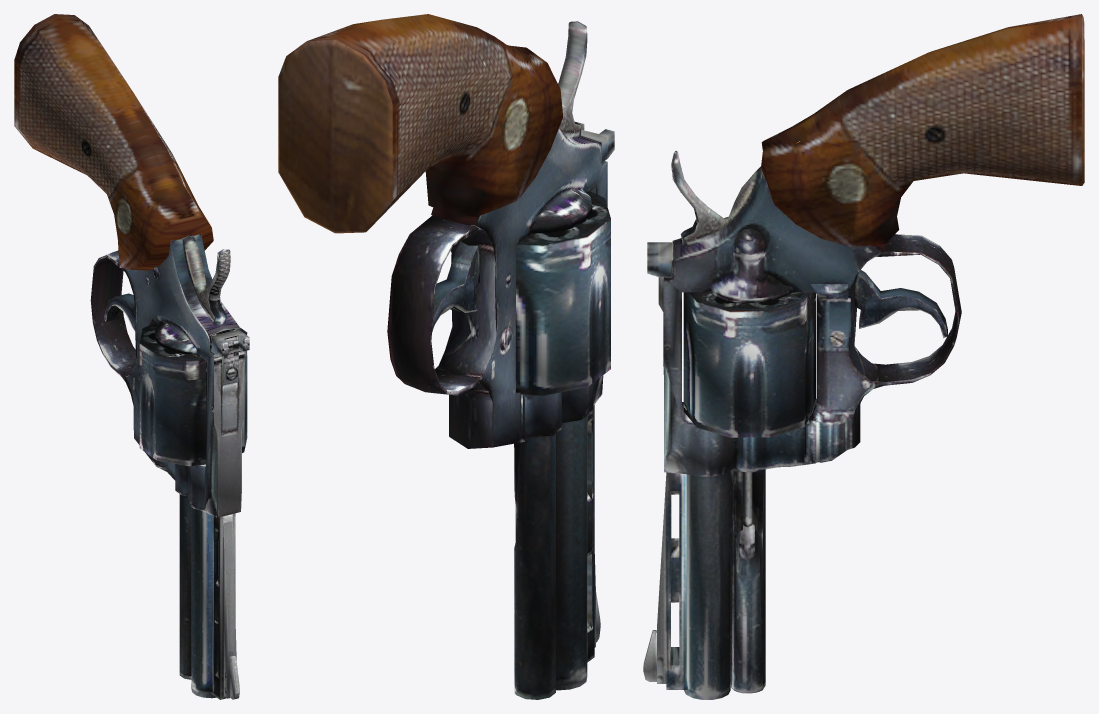
Rendered from Revolver.obj.
3 views of the same model, side by side, from view 1: azimuth 30°, elevation 25°; view 2: azimuth 150°, elevation 25°; view 3: azimuth 270°, elevation 25° (orthographic). The views are drawn at different scales.
Visible parts, largest first — view 1: Revolver; view 2: Revolver; view 3: Revolver.
Part boxes in pixels (x1,y1,x2,y2): Revolver: [14, 14, 249, 699]; Revolver: [278, 14, 614, 699]; Revolver: [643, 14, 1084, 699].
Bounding box in the file's own units: 0.0796 × 0.4668 × 0.278.
Materials: 1 (1 with a texture image).
